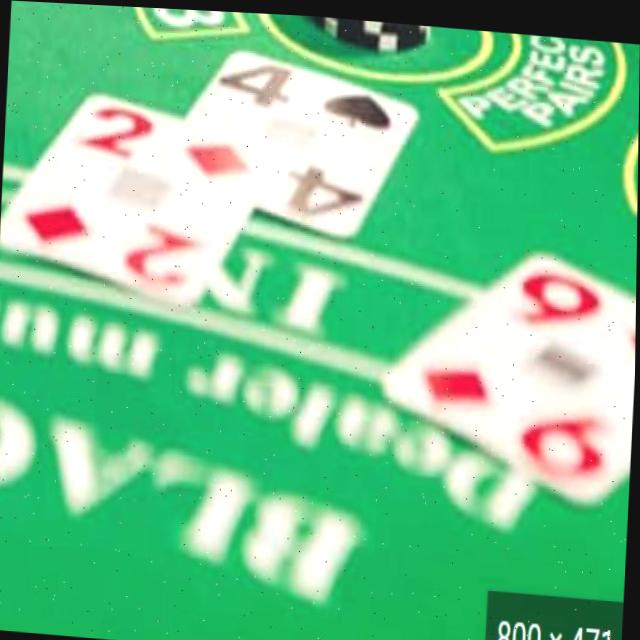Card-2: (0, 87, 276, 303)
Card-4: (186, 44, 417, 231)
Card-9: (382, 238, 637, 498)
